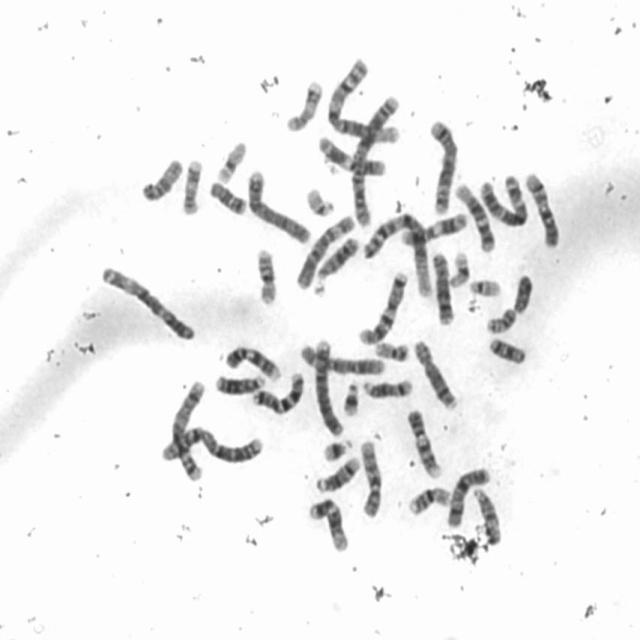A1: (327, 56, 402, 147), (361, 213, 434, 299)
A2: (351, 94, 406, 226), (158, 426, 265, 466)
A3: (99, 265, 199, 345), (480, 172, 528, 228)
B4: (247, 169, 311, 244), (312, 338, 346, 437)
B5: (171, 380, 206, 484), (426, 119, 459, 215)
C10: (524, 170, 561, 247), (359, 439, 384, 520)
C11: (316, 136, 388, 178), (399, 212, 468, 248)
C12: (454, 181, 498, 254), (309, 496, 348, 554)
C6: (294, 214, 357, 291), (298, 343, 386, 378)
C7: (358, 270, 408, 346), (251, 372, 304, 416)
C8: (412, 339, 459, 411), (429, 252, 455, 326)
C9: (404, 407, 444, 481), (224, 345, 285, 382)
D13: (312, 237, 360, 297), (213, 373, 268, 397)
D14: (316, 454, 361, 495), (360, 376, 412, 402)
D15: (140, 157, 183, 204), (470, 487, 502, 546)
E16: (250, 247, 281, 307), (407, 484, 452, 518)
E17: (282, 78, 324, 134), (180, 159, 203, 217)
E18: (208, 180, 249, 216), (485, 336, 527, 368)
F19: (216, 140, 248, 183), (447, 249, 470, 288)
F20: (483, 307, 517, 335), (372, 339, 411, 363)
G21: (322, 438, 354, 462), (341, 381, 359, 417)
G22: (306, 185, 336, 218), (468, 278, 502, 299)
X: (445, 467, 490, 528)
Y: (512, 274, 535, 315)
